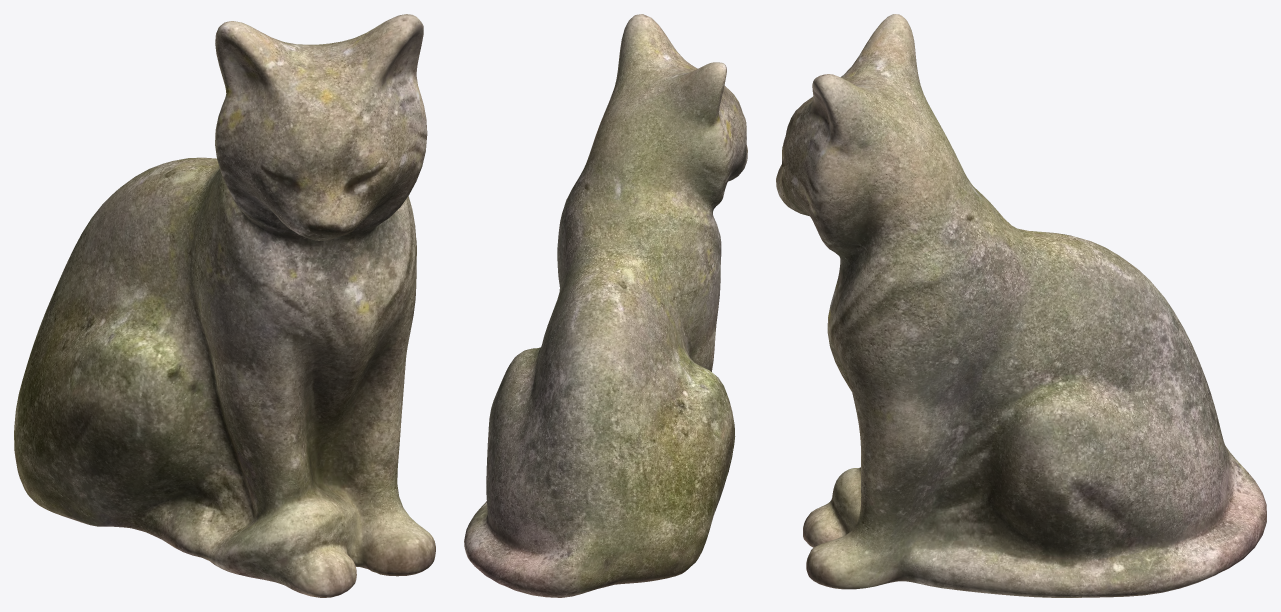
File: concrete_cat_statue.glb
3 views of the same model, side by side, from view 1: azimuth 30°, elevation 25°; view 2: azimuth 150°, elevation 25°; view 3: azimuth 270°, elevation 25° (orthographic). The views are drawn at different scales.
Visible parts, largest first — view 1: concrete_cat_statue; view 2: concrete_cat_statue; view 3: concrete_cat_statue.
Boxes of the visible parts, x1,y1,x2,y2 form: concrete_cat_statue: (14,14,435,597); concrete_cat_statue: (464,14,747,597); concrete_cat_statue: (776,14,1266,597).
Bounding box in the file's own units: 0.153 × 0.283 × 0.25.
Materials: 1 (1 with a texture image).
